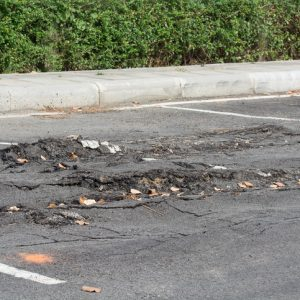pothole: (68, 171, 288, 198), (3, 140, 123, 165)
